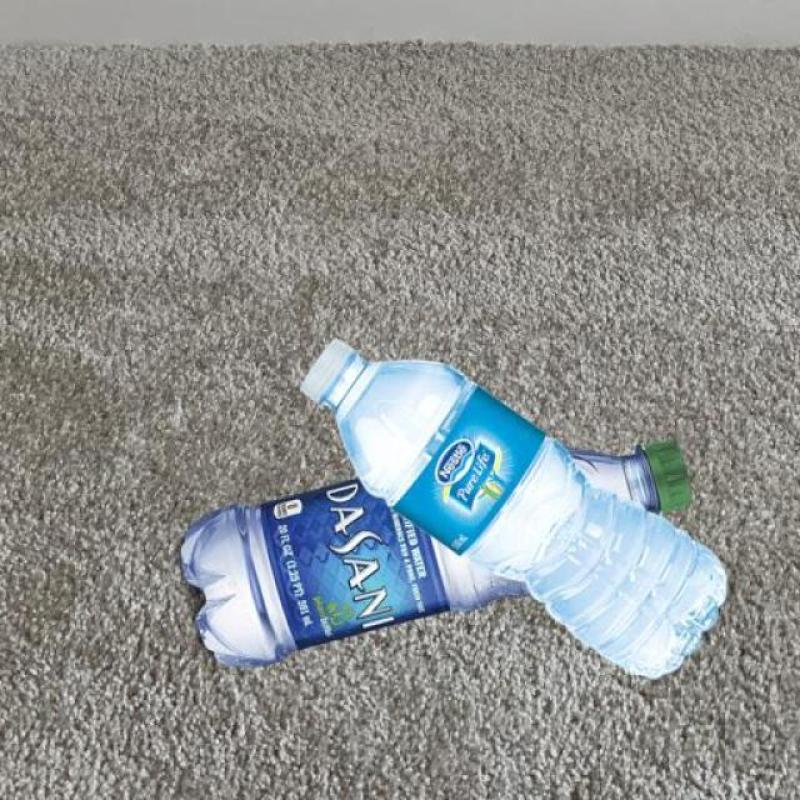botella: (296, 339, 730, 683), (182, 438, 693, 662)
